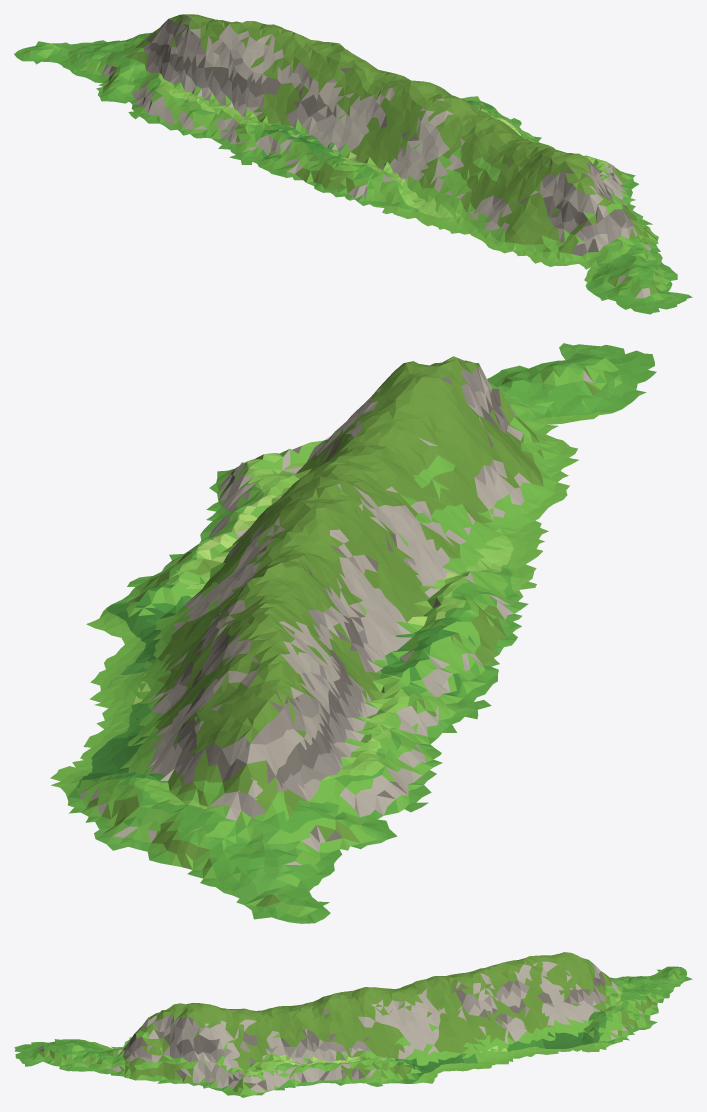
File: Isl-long2-Relief.fbx
3 renders of one model, top to bottom at view 1: azimuth 30°, elevation 25°; view 2: azimuth 150°, elevation 25°; view 3: azimuth 270°, elevation 25°, orthographic. The views are drawn at different scales.
Visible parts, largest first — view 1: Isl-long2-Relief-c12, Isl-long2-Relief-c11, Isl-long2-Relief-c21, Isl-long2-Relief-c22; view 2: Isl-long2-Relief-c12, Isl-long2-Relief-c11, Isl-long2-Relief-c21, Isl-long2-Relief-c22; view 3: Isl-long2-Relief-c21, Isl-long2-Relief-c12, Isl-long2-Relief-c22, Isl-long2-Relief-c11.
Part boxes in pixels (x1,y1,x2,y2): Isl-long2-Relief-c12: (14, 14, 436, 188); Isl-long2-Relief-c11: (314, 94, 648, 314); Isl-long2-Relief-c21: (437, 93, 692, 314); Isl-long2-Relief-c22: (424, 81, 531, 135); Isl-long2-Relief-c12: (60, 499, 511, 923); Isl-long2-Relief-c11: (318, 354, 656, 645); Isl-long2-Relief-c21: (169, 343, 652, 560); Isl-long2-Relief-c22: (50, 496, 317, 787); Isl-long2-Relief-c21: (14, 993, 348, 1097); Isl-long2-Relief-c12: (346, 952, 692, 1047); Isl-long2-Relief-c22: (346, 992, 606, 1086); Isl-long2-Relief-c11: (14, 991, 348, 1047).
Size of the model in its own units: 54.26 by 11.53 by 118.
